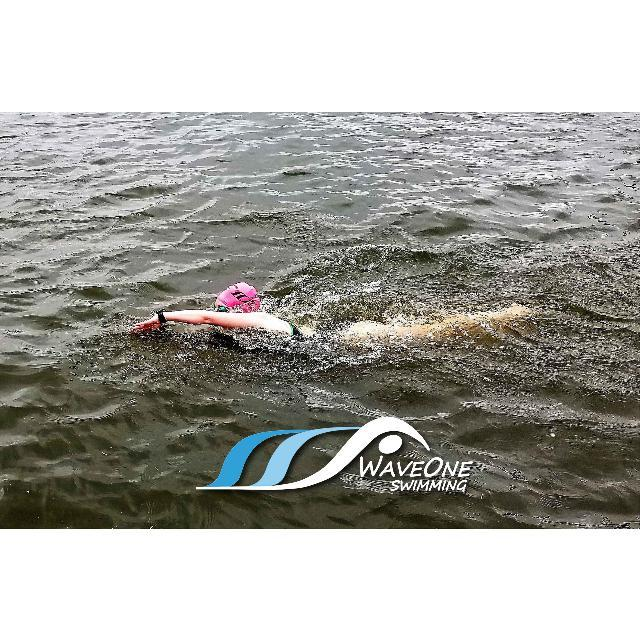human: (129, 276, 537, 350)
